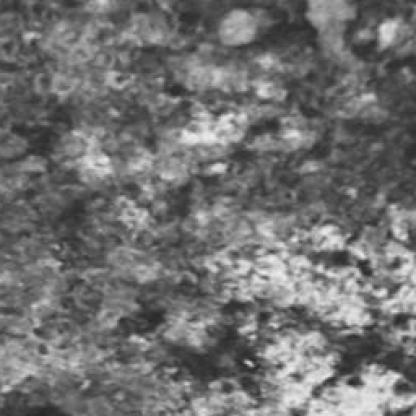brick: (1, 0, 414, 413)
